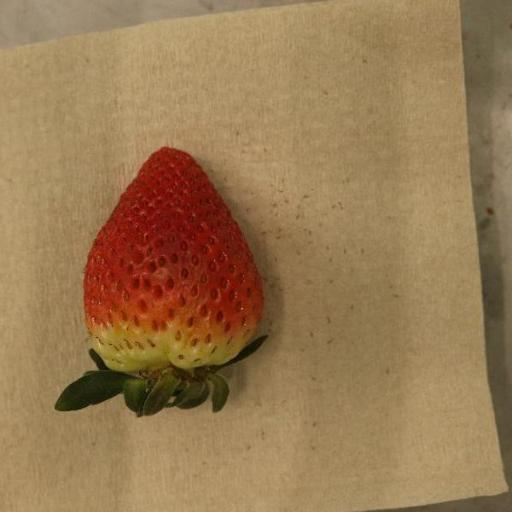Strawberry: (55, 147, 265, 419)
